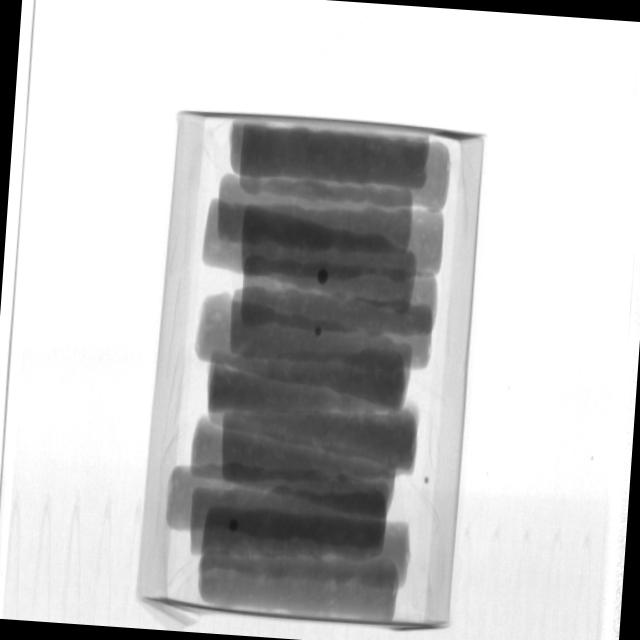ym: (317, 269, 330, 285), (230, 518, 240, 533), (315, 327, 324, 336), (424, 476, 430, 483)
